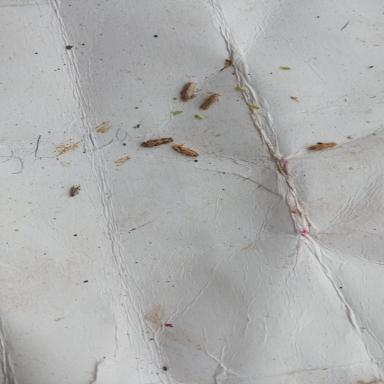pbw: (170, 143, 209, 161), (140, 132, 174, 149), (178, 82, 200, 102), (306, 140, 342, 152), (199, 93, 220, 110)
